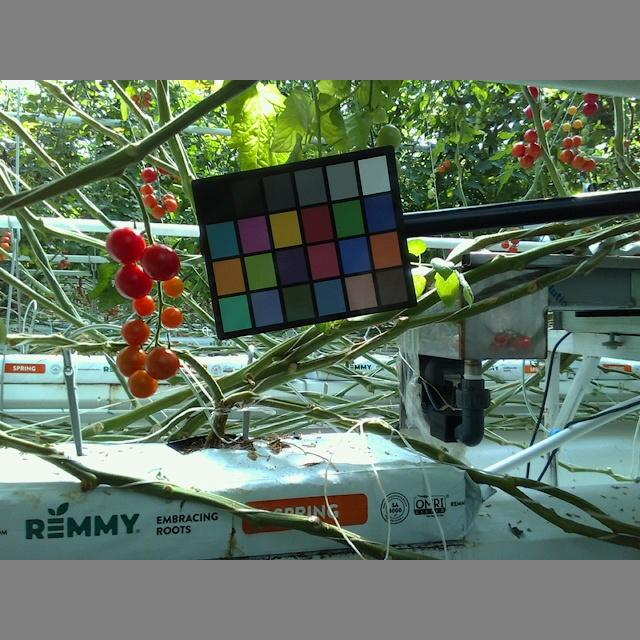green: (374, 124, 401, 150)
pink: (144, 347, 180, 380), (128, 366, 160, 399), (118, 347, 149, 378), (121, 319, 151, 345), (160, 304, 183, 329), (163, 274, 187, 297), (132, 293, 155, 316)
red: (139, 242, 180, 283), (106, 227, 146, 268), (113, 264, 153, 300)
